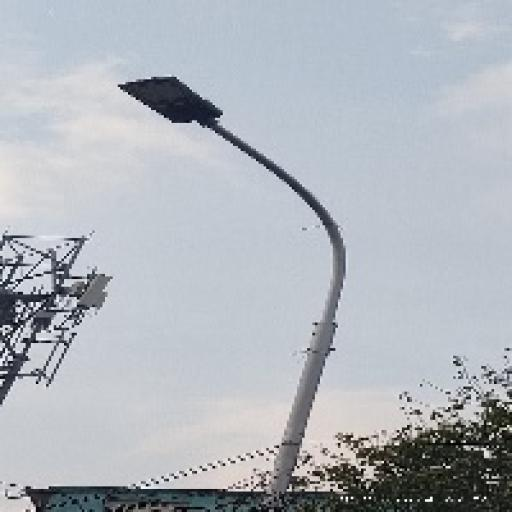Not Working: (109, 66, 235, 145)
